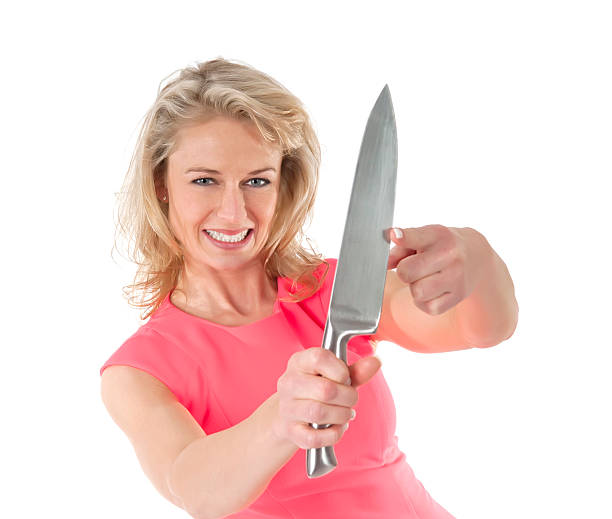knife: (303, 80, 400, 481)
